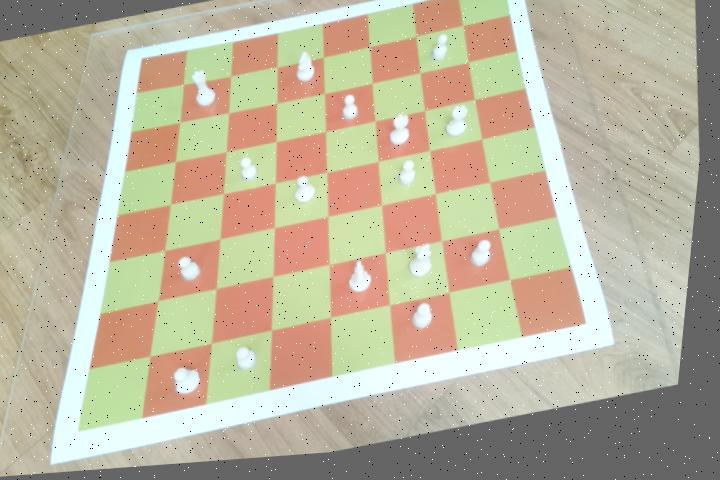chessboard-detect: (83, 0, 595, 434)
